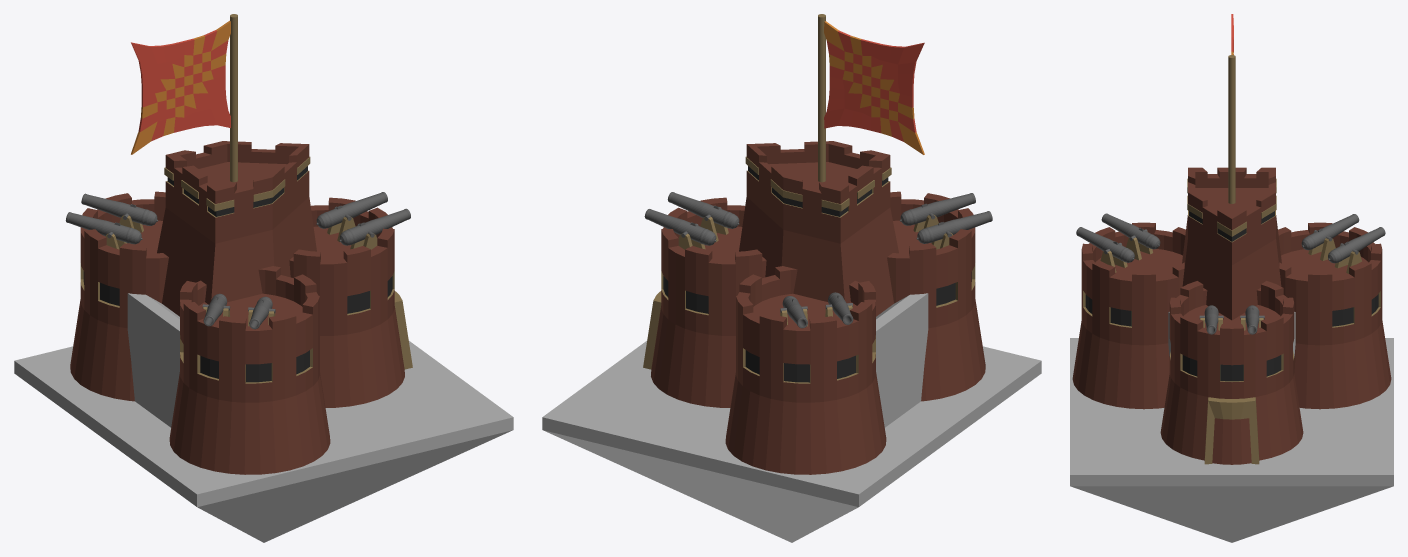
The model's file is Building Armory T3.fbx.
3 views of the same model, side by side, from view 1: azimuth 30°, elevation 25°; view 2: azimuth 150°, elevation 25°; view 3: azimuth 270°, elevation 25° (orthographic). The views are drawn at different scales.
Parts seen in each view (by area): view 1: Armoury T3; view 2: Armoury T3; view 3: Armoury T3.
Boxes of the visible parts, bbox=[...] form: Armoury T3: bbox=[14, 14, 513, 542]; Armoury T3: bbox=[542, 14, 1041, 542]; Armoury T3: bbox=[1070, 14, 1393, 542].
Bounding box in the file's own units: 1599 × 2580 × 1599.
